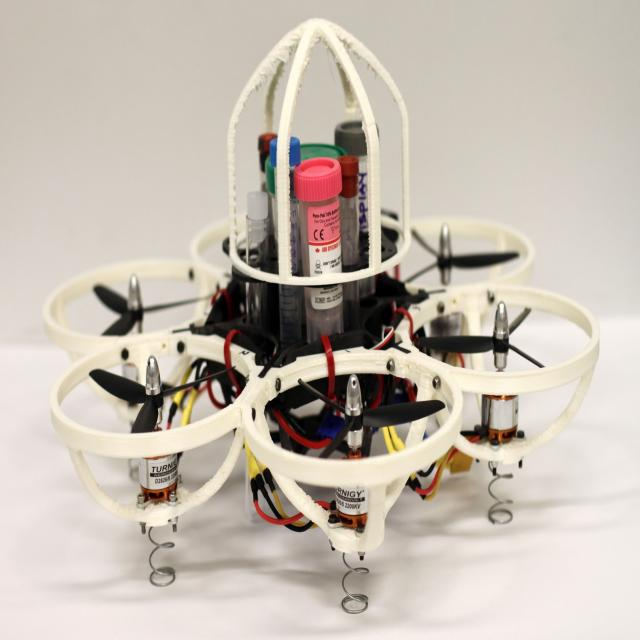drone: (38, 155, 634, 571)
